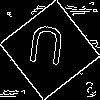U: (25, 25, 67, 75)
